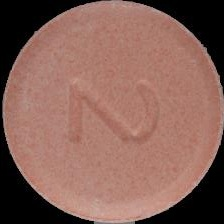0615-5534: (0, 0, 224, 224)
